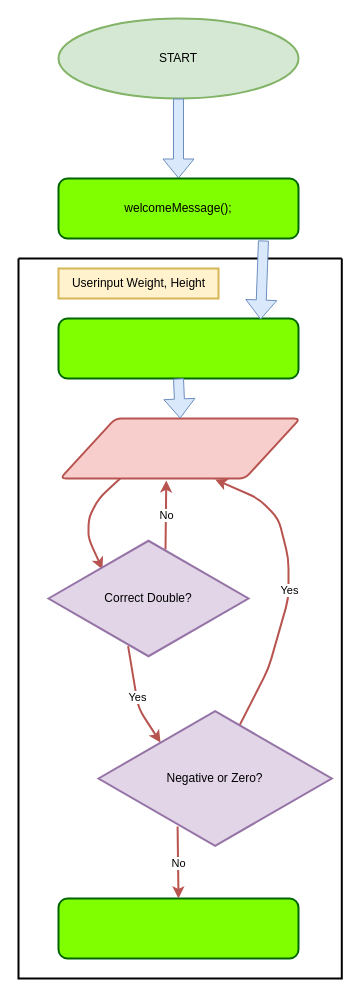
Some shapes in this 360 by 996 pixel diagram are drawn without their labels. The shapes that lost their labels are listed below. From the top down, each one's centre as x and y in pixels, then its label:
At (x=178, y=348): "StartUserInput".
At (x=180, y=448): "Read User Input".
At (x=178, y=928): "Store users input in name variable".
